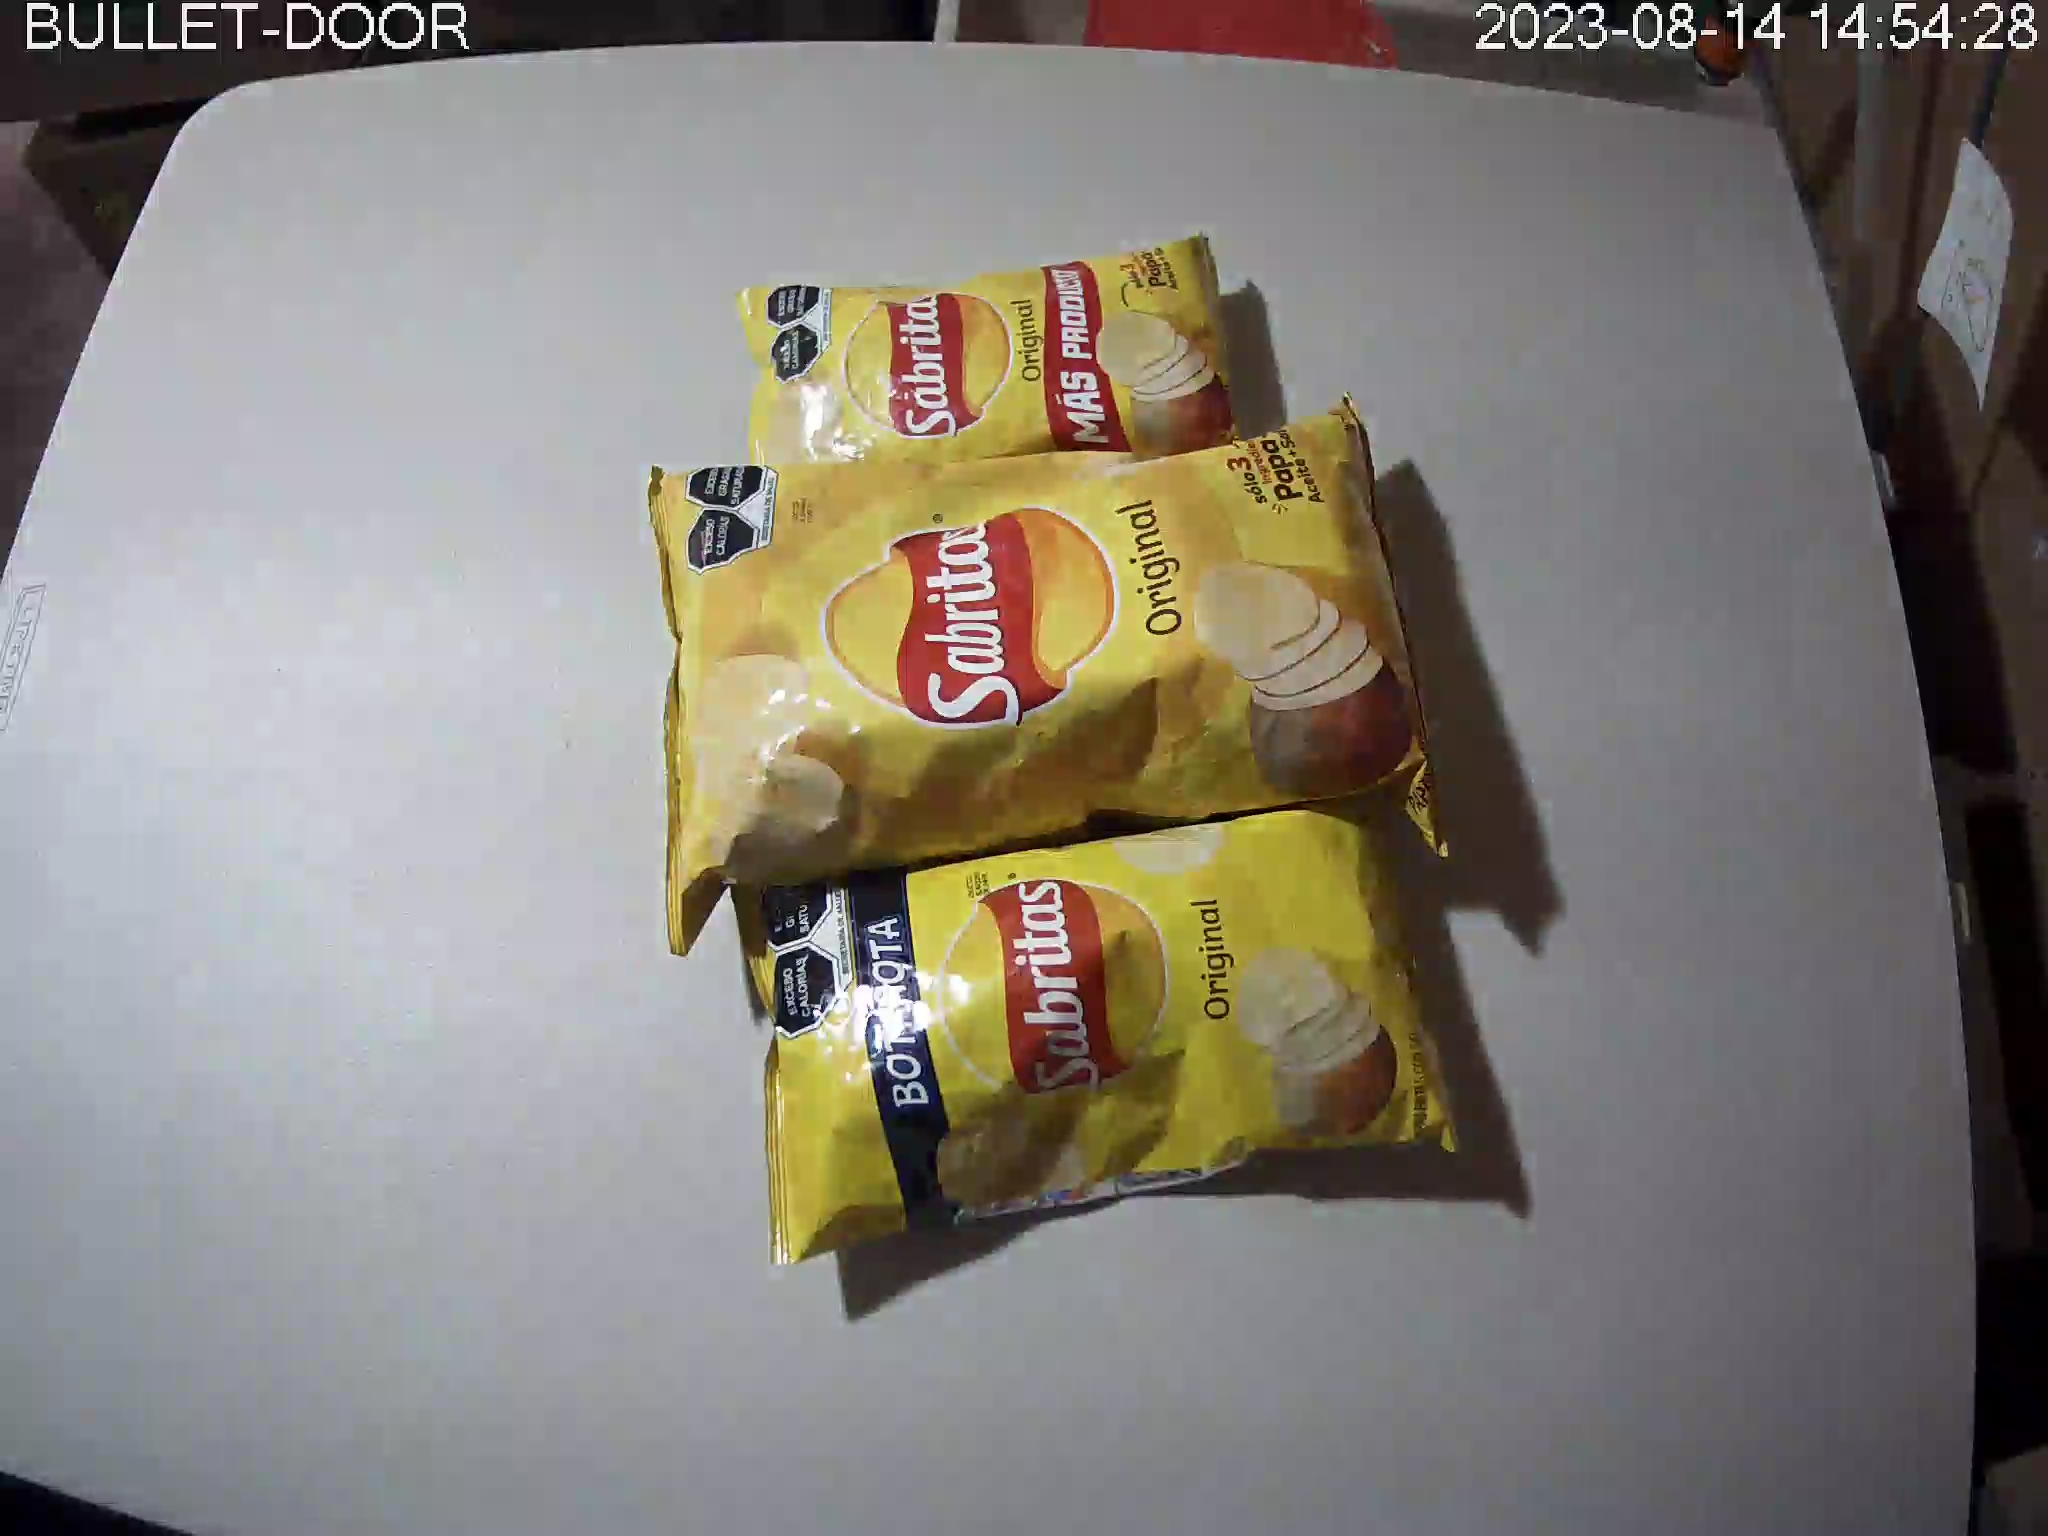Sabritas_160_F: (648, 390, 1450, 957)
Sabritas_45_F: (734, 231, 1247, 486)
Sabritas_64_F: (734, 784, 1467, 1263)
